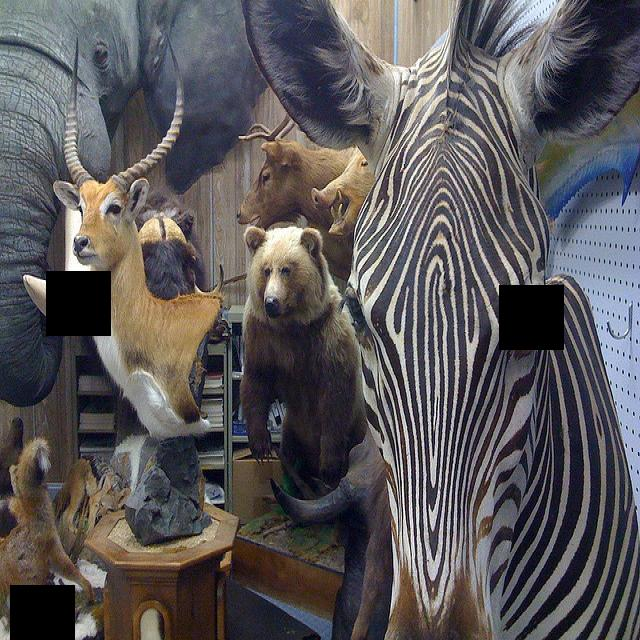Bear: (238, 223, 367, 503)
